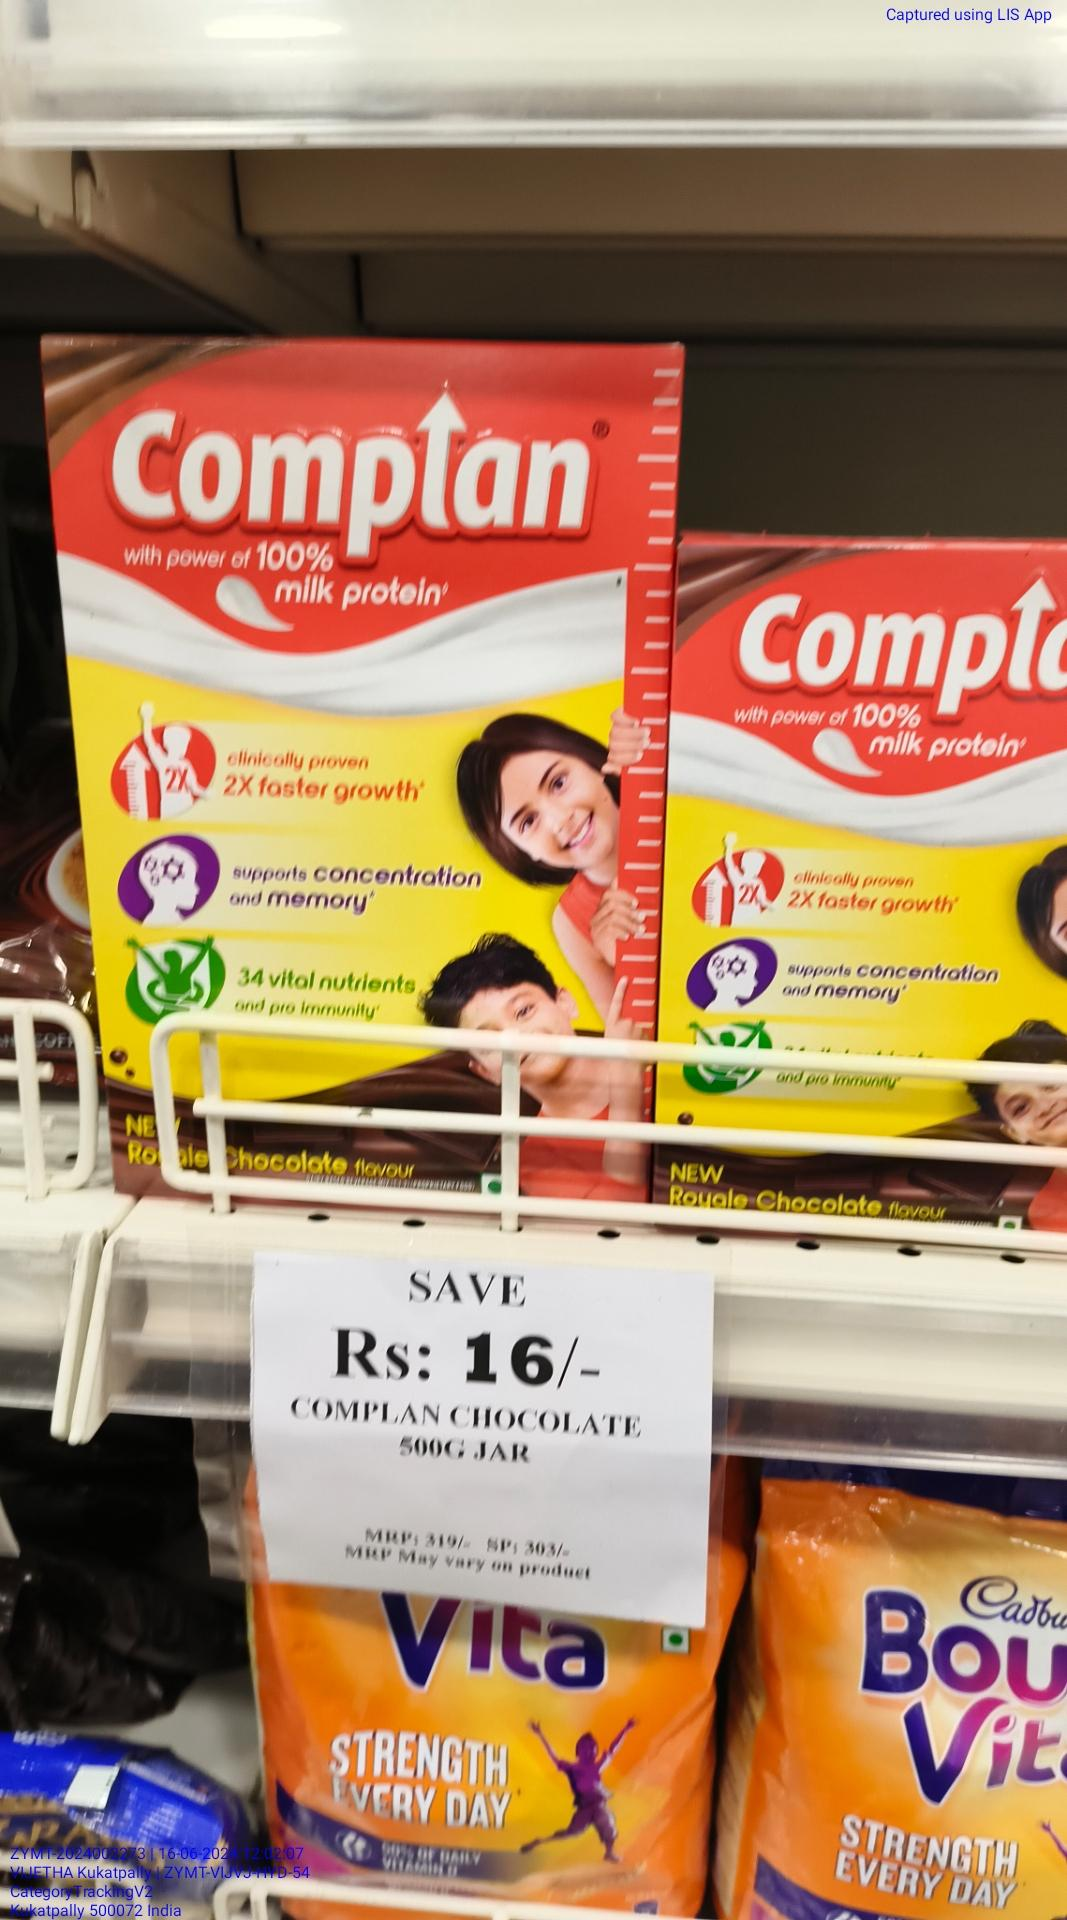COMPLAN_CHOCOLATE_200_GMS_PACK: (654, 533, 1067, 1223)
